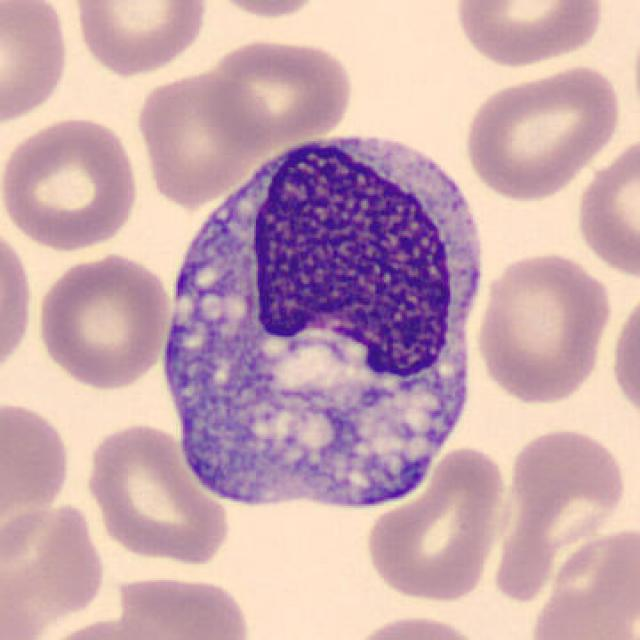Monocyte: (151, 112, 501, 524)
RBC: (361, 442, 514, 606), (459, 60, 624, 203), (498, 423, 631, 594), (473, 247, 615, 407), (80, 420, 233, 568), (0, 111, 142, 254), (34, 248, 174, 392), (131, 67, 265, 206), (198, 34, 356, 148), (522, 520, 640, 640), (67, 0, 211, 79), (0, 393, 75, 541), (452, 0, 608, 69), (572, 130, 638, 284), (110, 571, 256, 640), (0, 0, 73, 129), (0, 217, 36, 386), (608, 284, 640, 428), (341, 610, 491, 640), (26, 613, 186, 640), (199, 0, 332, 19)
